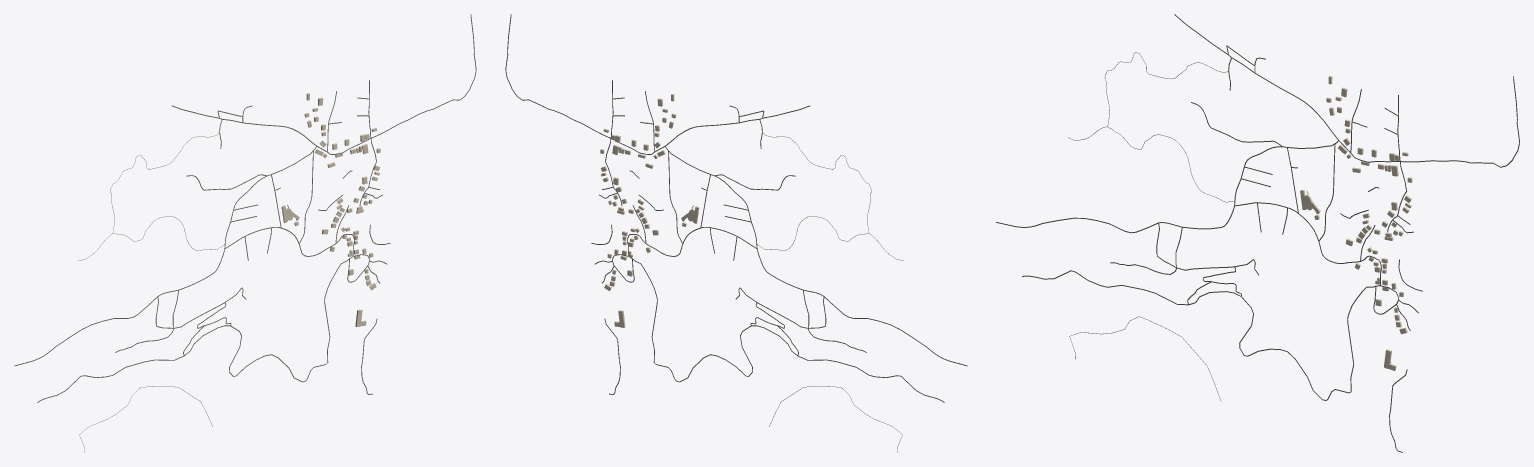
File: historic-palestine-10_28_3520_3223.glb
3 renders of one model, left to right at view 1: azimuth 30°, elevation 25°; view 2: azimuth 150°, elevation 25°; view 3: azimuth 330°, elevation 25°, orthographic. The views are drawn at different scales.
Visible parts, largest first — view 1: Road .019, Road .015, Road .037; view 2: Road .019, Road .015, Road .037; view 3: Road .019, Road .015, Road .037.
Part boxes in pixels (x1,y1,x2,y2): Road .019: (37,300,330,402); Road .015: (172,14,476,154); Road .037: (14,146,316,366); Road .019: (651,300,944,402); Road .015: (505,14,809,154); Road .037: (665,146,967,366); Road .019: (1022,270,1354,400); Road .015: (1174,14,1519,167); Road .037: (996,140,1338,233).
Size of the model in its own units: 1817 by 1339 by 8.7.
